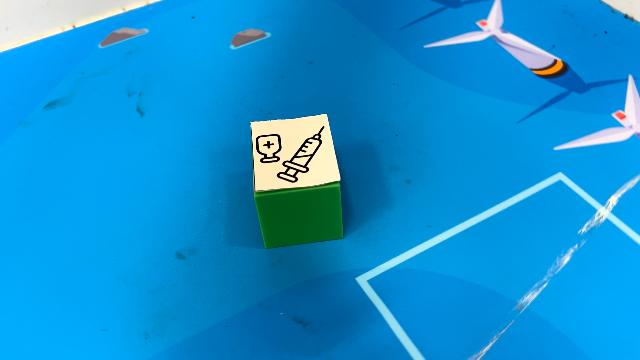syringe: (251, 113, 345, 249)
